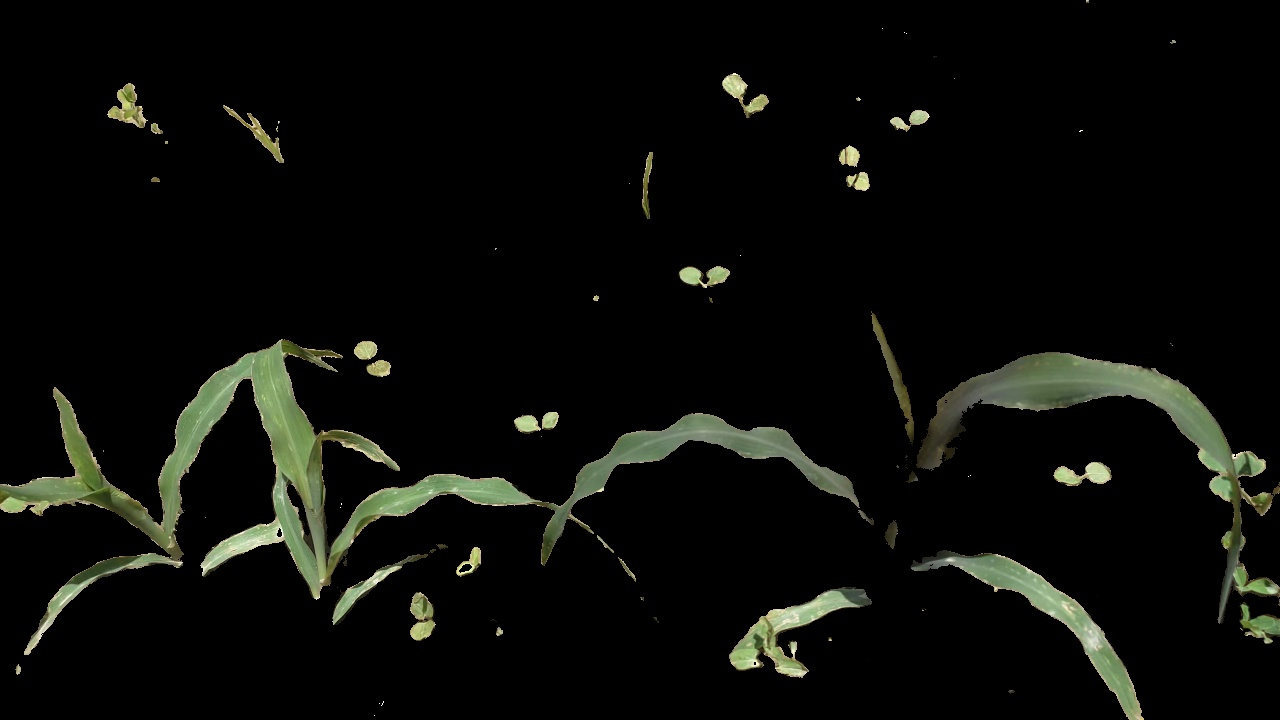crop: (592, 312, 1209, 710), (228, 367, 645, 619), (1, 335, 259, 642)
weed: (217, 103, 295, 178), (708, 68, 781, 124), (90, 86, 160, 137), (1047, 458, 1135, 492), (1217, 446, 1267, 505), (1229, 548, 1278, 599), (354, 335, 399, 382), (835, 142, 874, 190), (509, 409, 571, 437), (672, 264, 731, 292), (883, 105, 932, 137), (404, 594, 437, 640), (1238, 612, 1280, 646), (453, 549, 488, 578)
